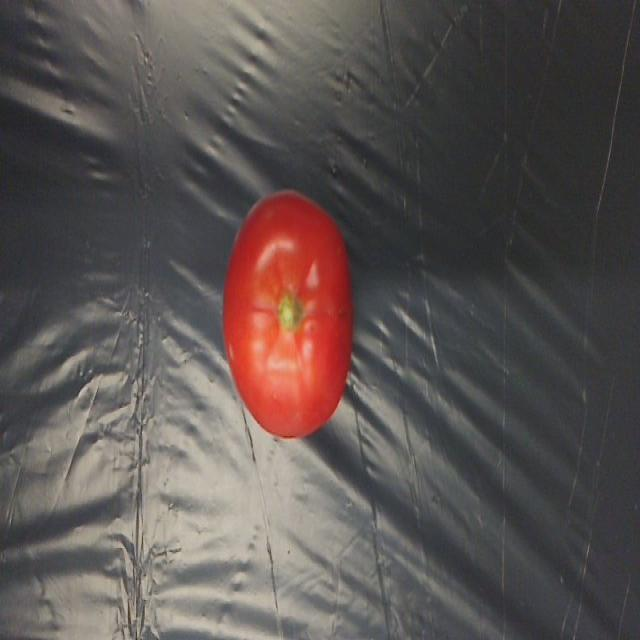kirmizi: (216, 181, 363, 436)
